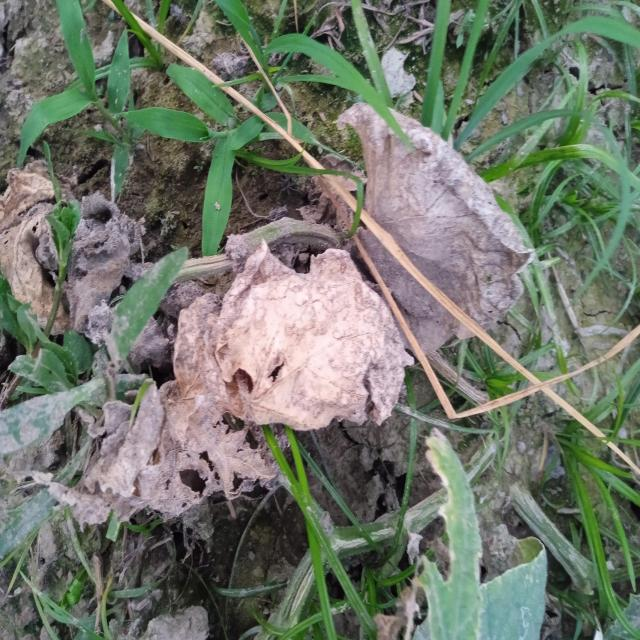cucumber_bacterial: (336, 97, 548, 336), (170, 268, 437, 450), (3, 370, 163, 572), (7, 151, 135, 363)
